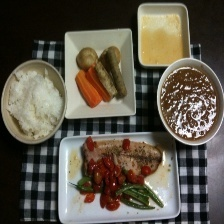rice: (6, 69, 64, 137)
